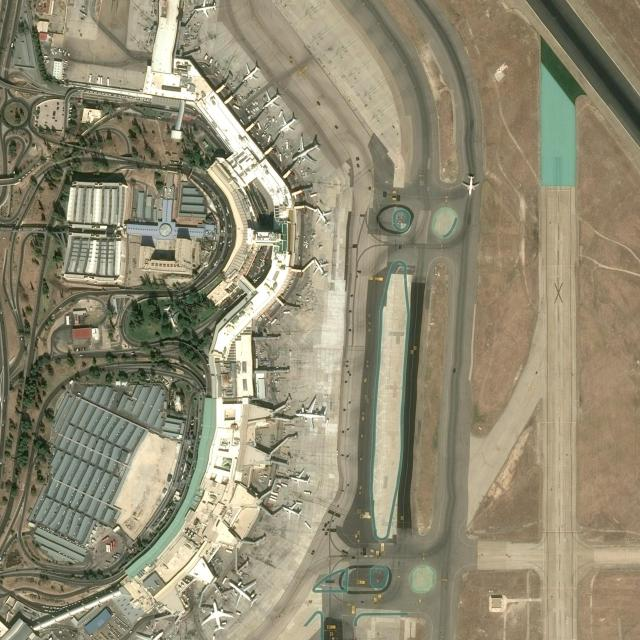1: (138, 631, 165, 640)
aircraft: (294, 396, 327, 429), (202, 599, 234, 632), (227, 580, 258, 610), (292, 134, 321, 165), (276, 112, 298, 134), (193, 0, 217, 18), (462, 173, 481, 195), (288, 469, 310, 488), (315, 205, 333, 227), (262, 90, 283, 108), (281, 502, 302, 520), (241, 63, 261, 81), (312, 258, 330, 278)
